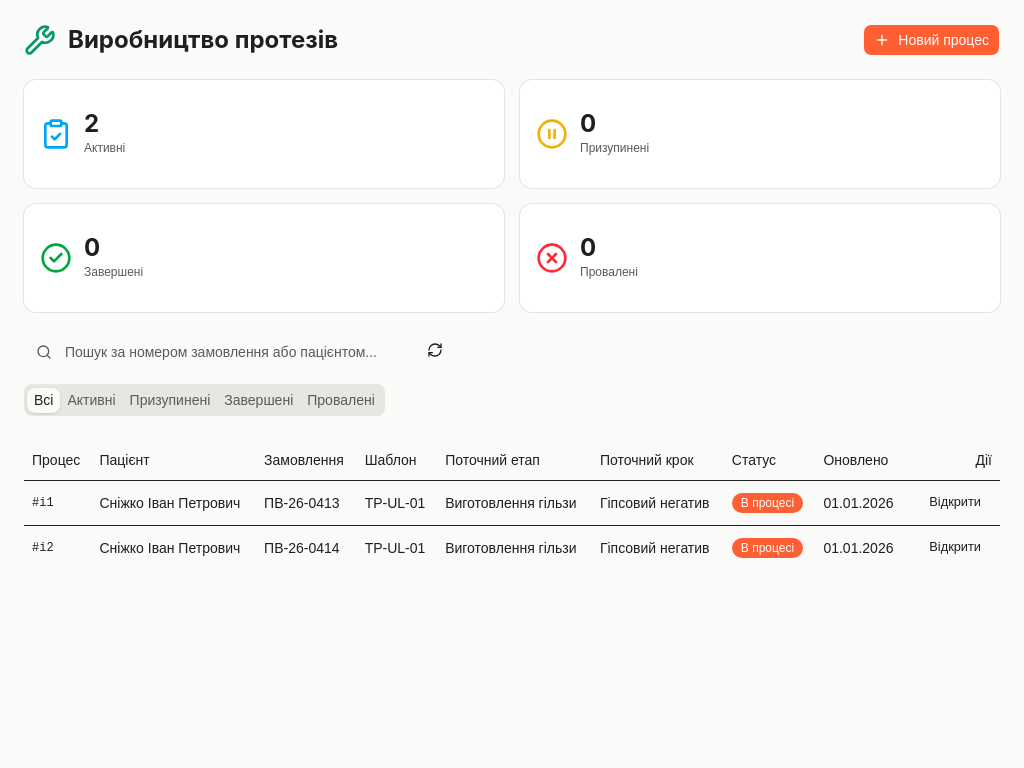
it: DashboardPage › filters instances client-side by search query
Check: the text "ПВ-26-0413" is shown, box [256, 480, 357, 525]
Step 1. Type "0414" into the field with placeholder "Пошук за номером замовлення або пацієнтом..." → (216, 352), box [24, 336, 408, 368]
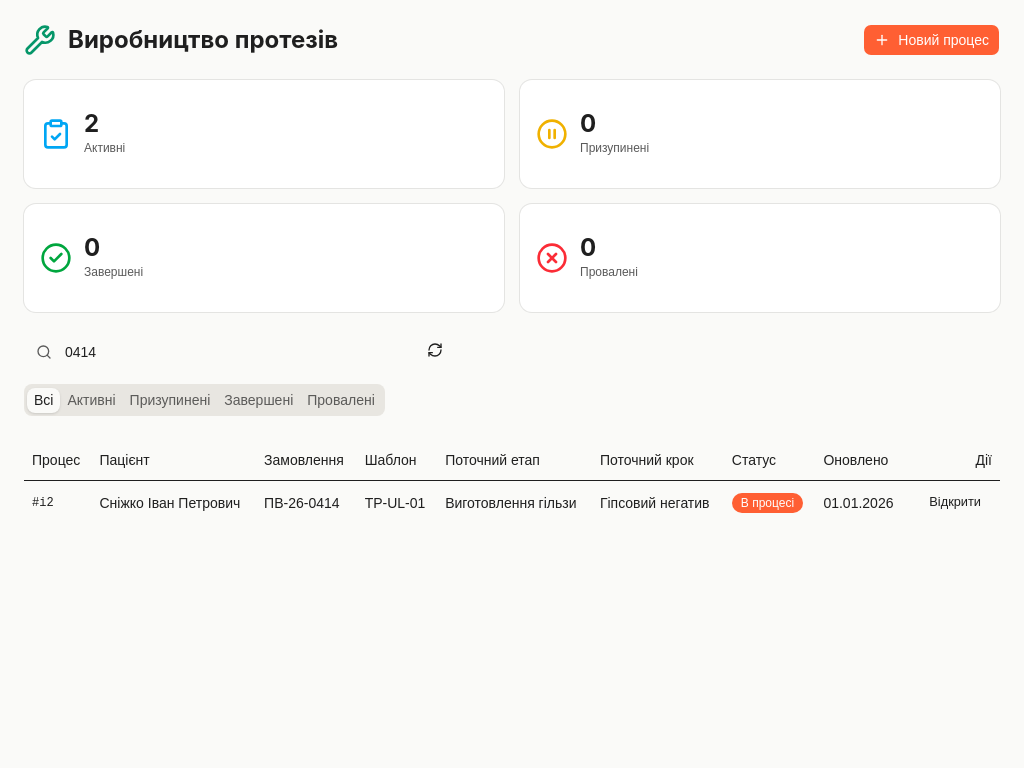
Check: the text "ПВ-26-0414" is shown, box [256, 480, 357, 524]
Check: the text "ПВ-26-0413" is gone
